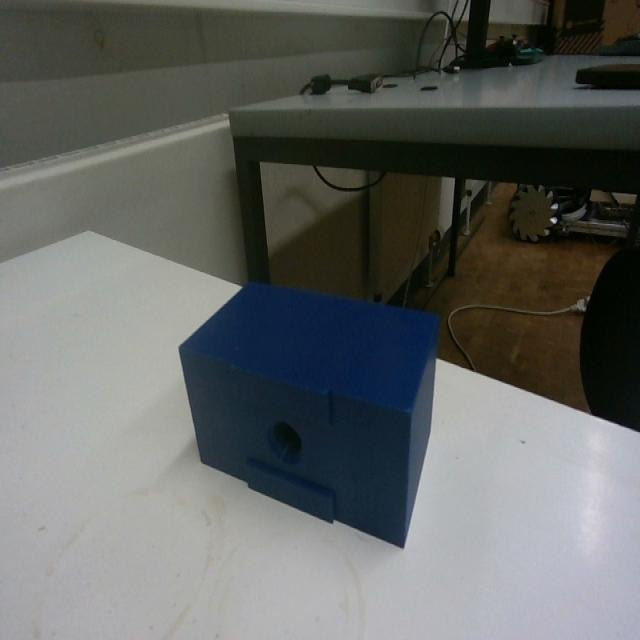Blue Cuboid: (176, 275, 442, 549)
